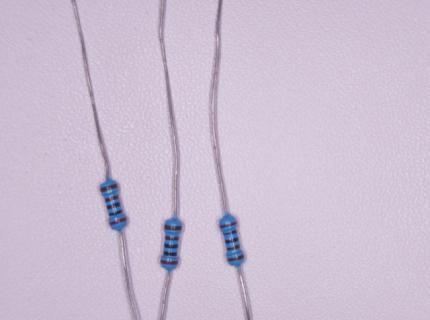Black band: (106, 202, 121, 210), (224, 237, 239, 244), (109, 210, 123, 217), (222, 230, 237, 236), (164, 244, 178, 249), (163, 251, 177, 256)
Brown band: (100, 184, 118, 193), (227, 255, 245, 262), (164, 225, 182, 231), (104, 195, 119, 202), (165, 235, 179, 241), (227, 245, 241, 251)
Red band: (109, 217, 127, 226), (219, 221, 238, 229), (161, 260, 178, 266)
